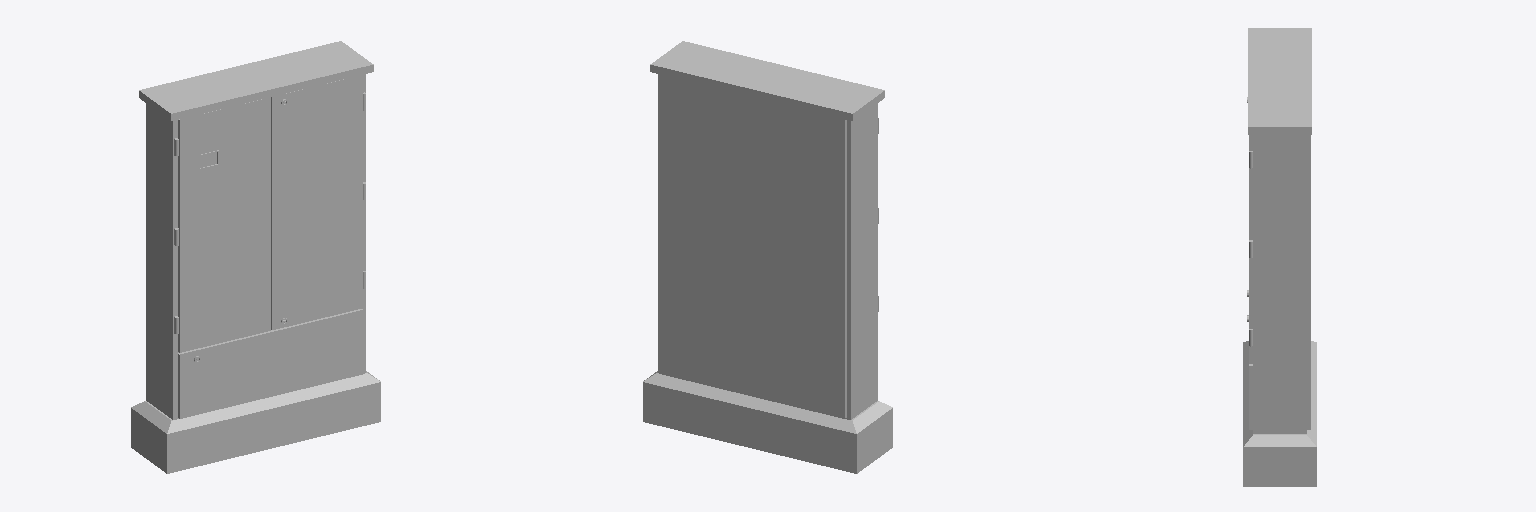
Rendered from Electronic box.obj.
3 views of the same model, side by side, from view 1: azimuth 30°, elevation 25°; view 2: azimuth 150°, elevation 25°; view 3: azimuth 270°, elevation 25° (orthographic).
Visible parts, largest first — view 1: Electrical_switchboard_Mesh; view 2: Electrical_switchboard_Mesh; view 3: Electrical_switchboard_Mesh.
Boxes of the visible parts, x1=… form: Electrical_switchboard_Mesh: x1=131, y1=41, x2=380, y2=473; Electrical_switchboard_Mesh: x1=643, y1=41, x2=892, y2=473; Electrical_switchboard_Mesh: x1=1243, y1=28, x2=1316, y2=486.
Size of the model in its own units: 1.3 by 2.07 by 0.385.